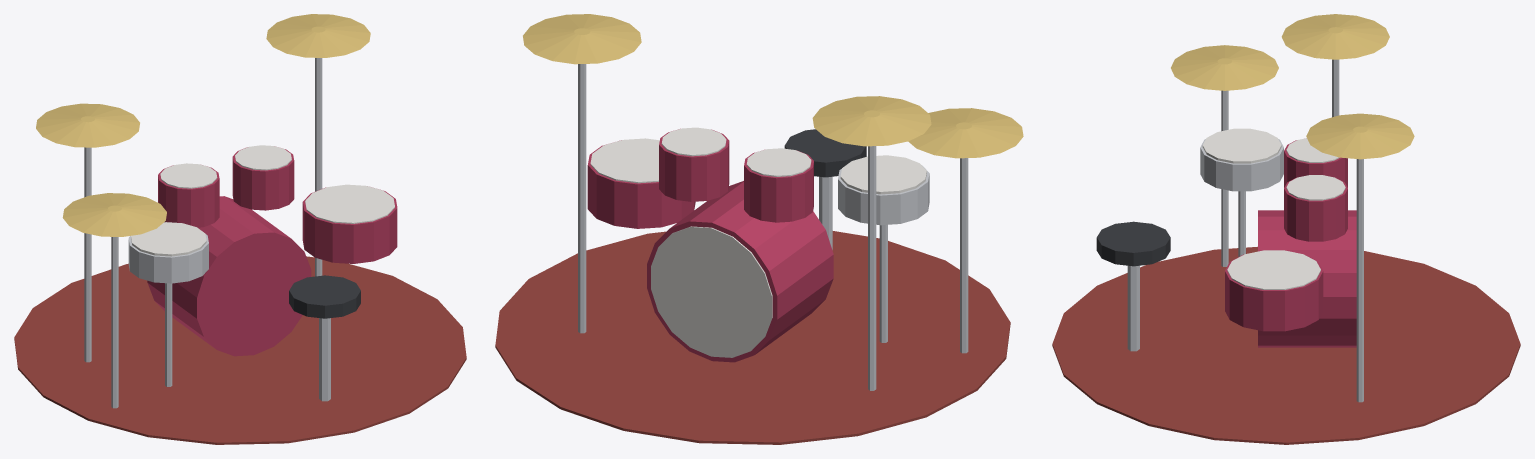
Rendered from drum_kit.glb.
The picture shows the model from 3 angles, left to right: view 1: azimuth 30°, elevation 25°; view 2: azimuth 150°, elevation 25°; view 3: azimuth 270°, elevation 25°; orthographic projection. The views are drawn at different scales.
Parts seen in each view (by area): view 1: drum_kit; view 2: drum_kit; view 3: drum_kit.
Part boxes in pixels (<box>): drum_kit: <box>14,14,466,444</box>; drum_kit: <box>495,14,1023,444</box>; drum_kit: <box>1052,14,1520,444</box>.
Bounding box in the file's own units: 1.92 × 1.23 × 1.9.
